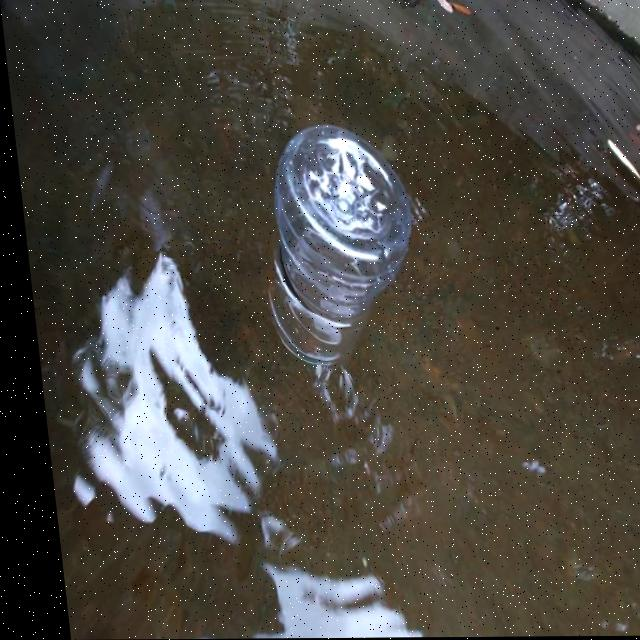leaf: (371, 0, 481, 34), (639, 498, 640, 565)
waterbottle: (242, 127, 433, 374)
